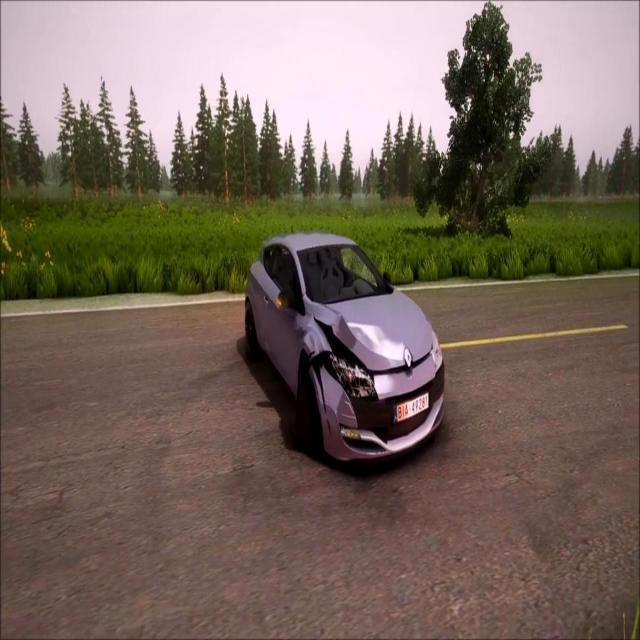moderate: (242, 229, 448, 474)
